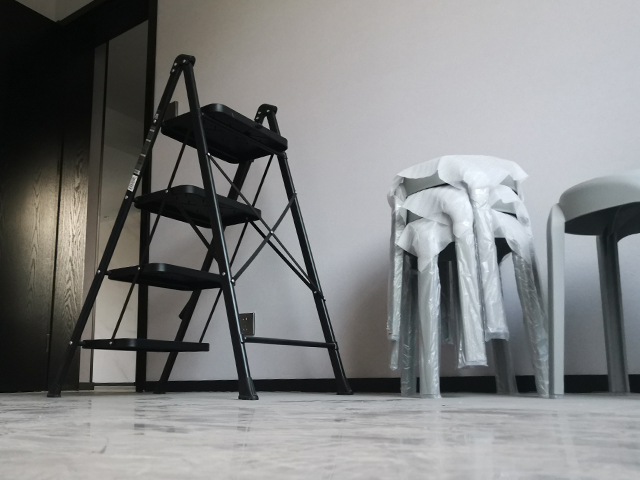stool: (384, 151, 548, 402), (543, 170, 640, 401)
